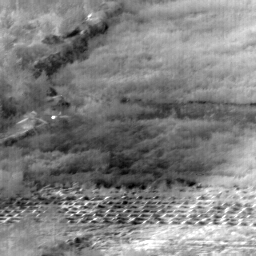aircraft: (52, 116, 54, 118)
